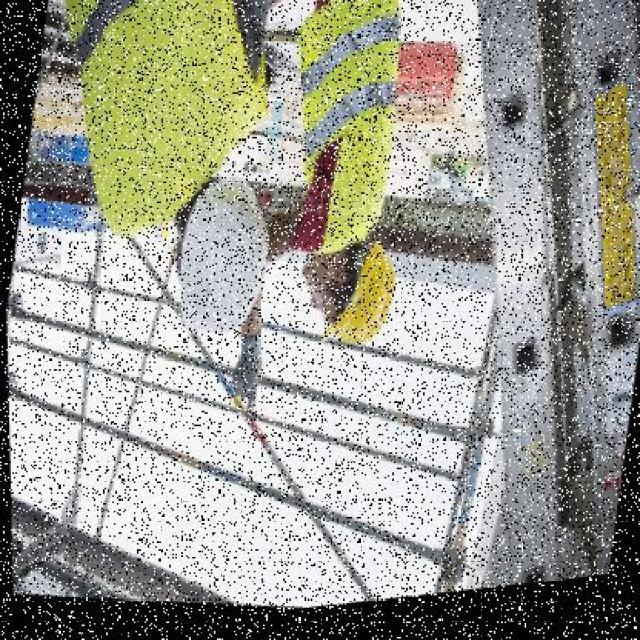helmet: (157, 171, 281, 341), (328, 245, 396, 366)
vest: (263, 0, 418, 259), (39, 0, 267, 169)
